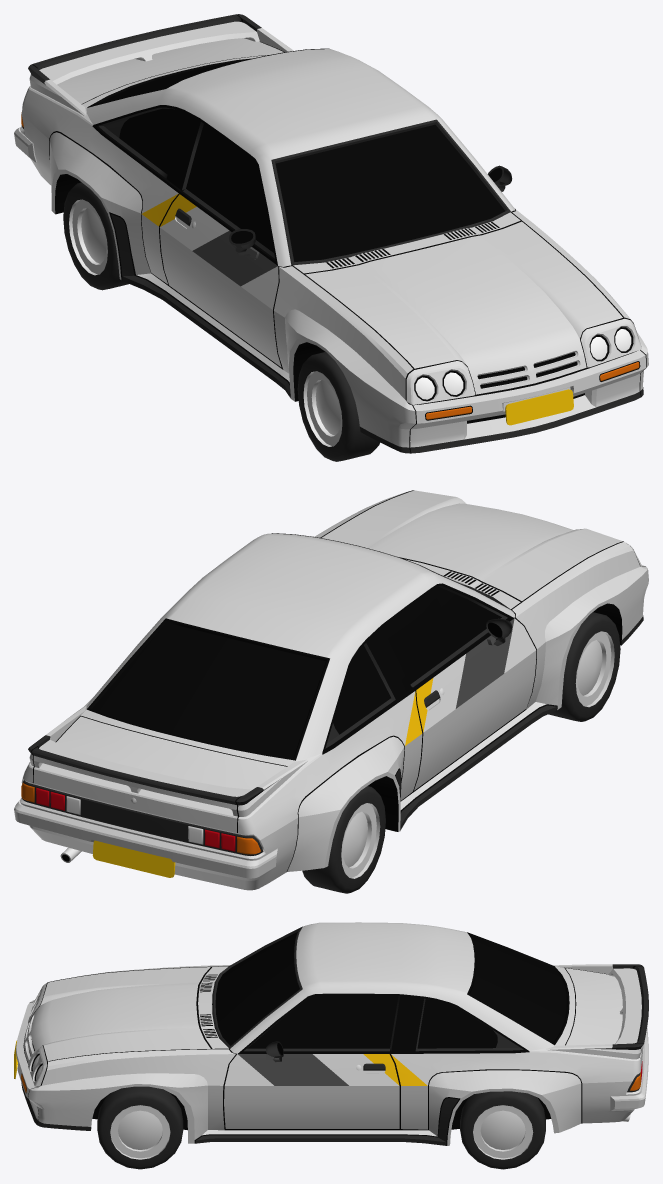
File: car.glb
3 renders of one model, top to bottom at view 1: azimuth 30°, elevation 25°; view 2: azimuth 150°, elevation 25°; view 3: azimuth 270°, elevation 25°, orthographic. The views are drawn at different scales.
Visible parts, largest first — view 1: body, wheels, spoiler, plate, body1; view 2: body, wheels, spoiler, bump, plate; view 3: body, wheels, spoiler, bump.
Boxes of the visible parts, x1=… form: body: x1=20, y1=38, x2=648, y2=453; wheels: x1=63, y1=182, x2=380, y2=461; spoiler: x1=28, y1=14, x2=293, y2=115; plate: x1=505, y1=389, x2=573, y2=425; body1: x1=477, y1=351, x2=580, y2=389; body: x1=20, y1=490, x2=648, y2=890; wheels: x1=302, y1=612, x2=620, y2=893; spoiler: x1=28, y1=706, x2=308, y2=816; bump: x1=14, y1=800, x2=277, y2=878; plate: x1=92, y1=840, x2=175, y2=877; body: x1=16, y1=922, x2=643, y2=1145; wheels: x1=97, y1=1086, x2=545, y2=1169; spoiler: x1=546, y1=964, x2=648, y2=1059; bump: x1=610, y1=1027, x2=648, y2=1110.
Size of the model in its own units: 196 by 144 by 488.
